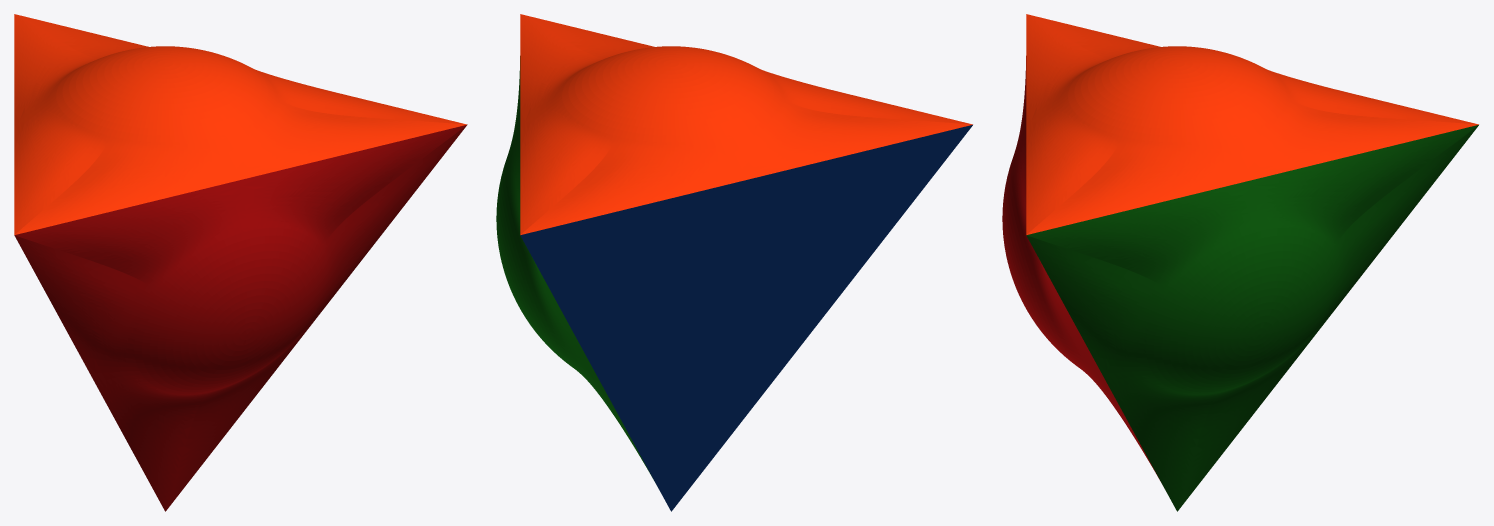
Rendered from 2_2_0_2_tetrahedron.obj.
3 views of the same model, side by side, from view 1: azimuth 30°, elevation 25°; view 2: azimuth 150°, elevation 25°; view 3: azimuth 270°, elevation 25° (orthographic).
Parts seen in each view (by area): view 1: Level_2_-_level_2_front_Level_2_-_level_2_front.001, Level_2_-_level_2_top_Level_2_-_level_2_top.001; view 2: Level_0_-_level_0_left, Level_2_-_level_2_top_Level_2_-_level_2_top.001, Level_2_-_level_2_right_Level_2_-_level_2_right.001; view 3: Level_2_-_level_2_right_Level_2_-_level_2_right.001, Level_2_-_level_2_top_Level_2_-_level_2_top.001, Level_2_-_level_2_front_Level_2_-_level_2_front.001.
Part boxes in pixels (x1,y1,x2,y2): Level_2_-_level_2_front_Level_2_-_level_2_front.001: (14,124,467,511); Level_2_-_level_2_top_Level_2_-_level_2_top.001: (14,14,466,234); Level_0_-_level_0_left: (520,125,972,511); Level_2_-_level_2_top_Level_2_-_level_2_top.001: (520,14,972,234); Level_2_-_level_2_right_Level_2_-_level_2_right.001: (496,56,652,478); Level_2_-_level_2_right_Level_2_-_level_2_right.001: (1026,125,1478,511); Level_2_-_level_2_top_Level_2_-_level_2_top.001: (1026,14,1478,234); Level_2_-_level_2_front_Level_2_-_level_2_front.001: (1002,56,1158,478).
Size of the model in its own units: 0.1 by 0.0946 by 0.0911.
